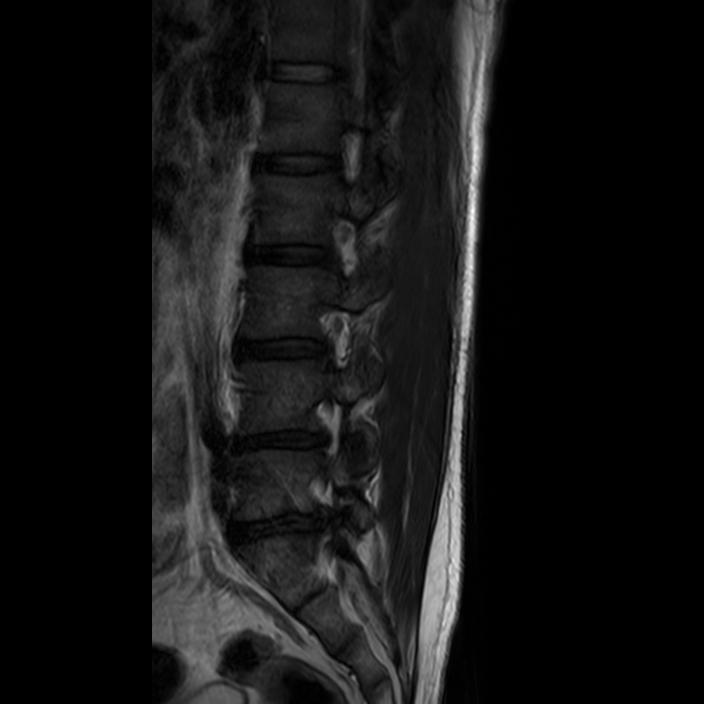LFS0: (300, 384, 359, 461), (311, 203, 364, 287), (301, 300, 357, 375), (319, 119, 375, 192)
